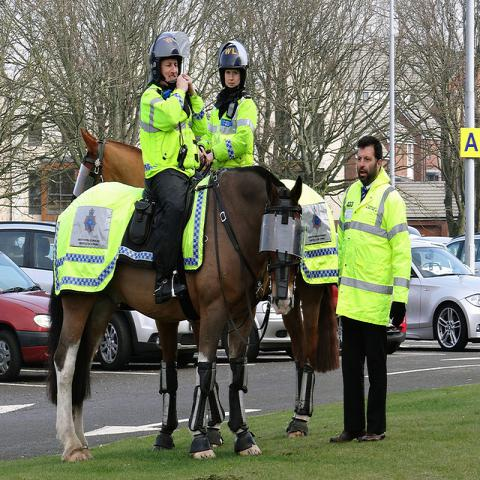car: (406, 239, 479, 352), (2, 248, 54, 384), (98, 305, 198, 370), (0, 225, 57, 292), (251, 301, 289, 361), (445, 233, 479, 276), (386, 316, 406, 354), (420, 236, 453, 244)
